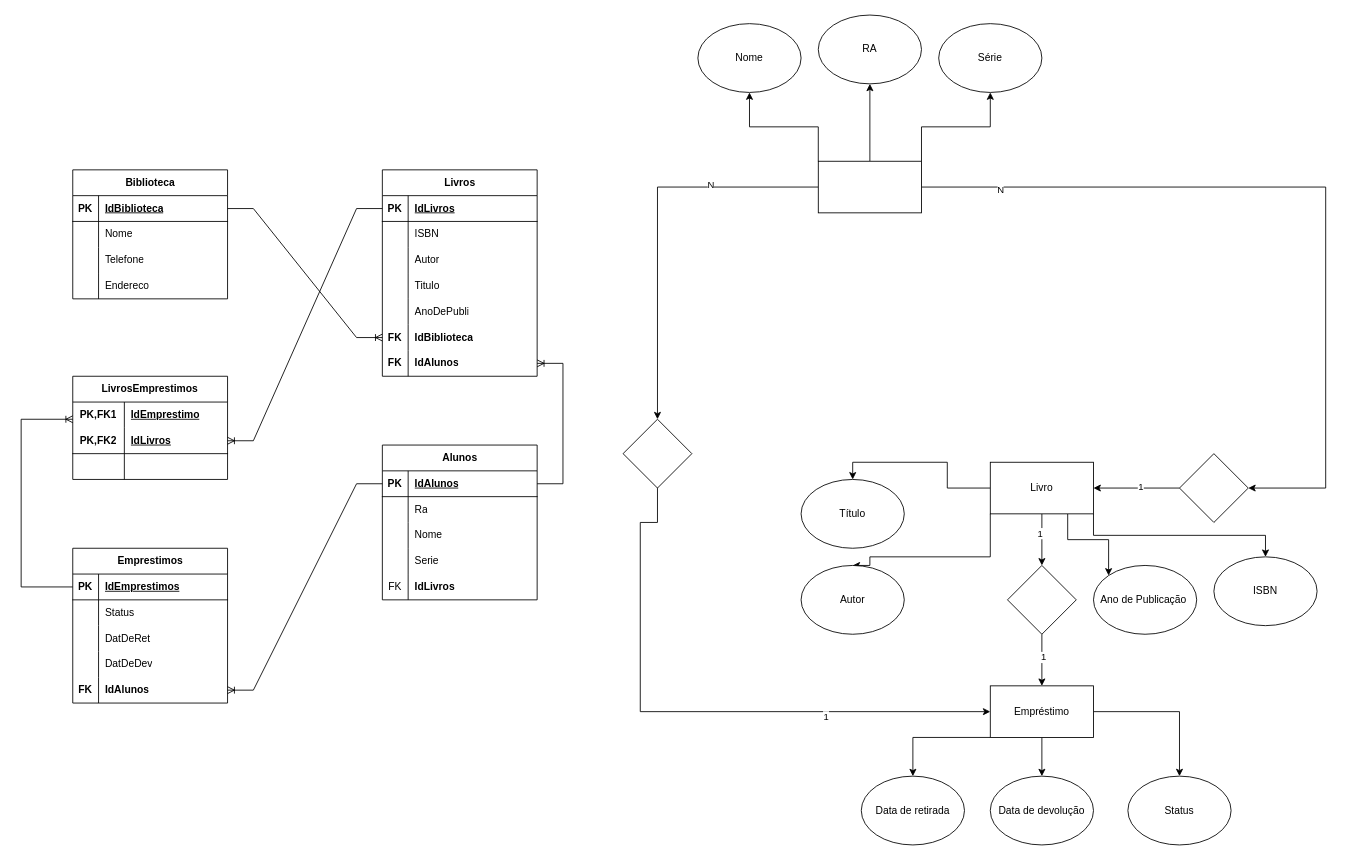
Image size: 1348x860. Some labels were removed from this diagram. The shapes that lost their labels are listed below. From the top down, each one's centre as x and y in pixels, then its label:
At point (869, 186): "Aluno".
At point (657, 453): "Faz".
At point (1213, 487): "Atende".
At point (1041, 599): "São".
